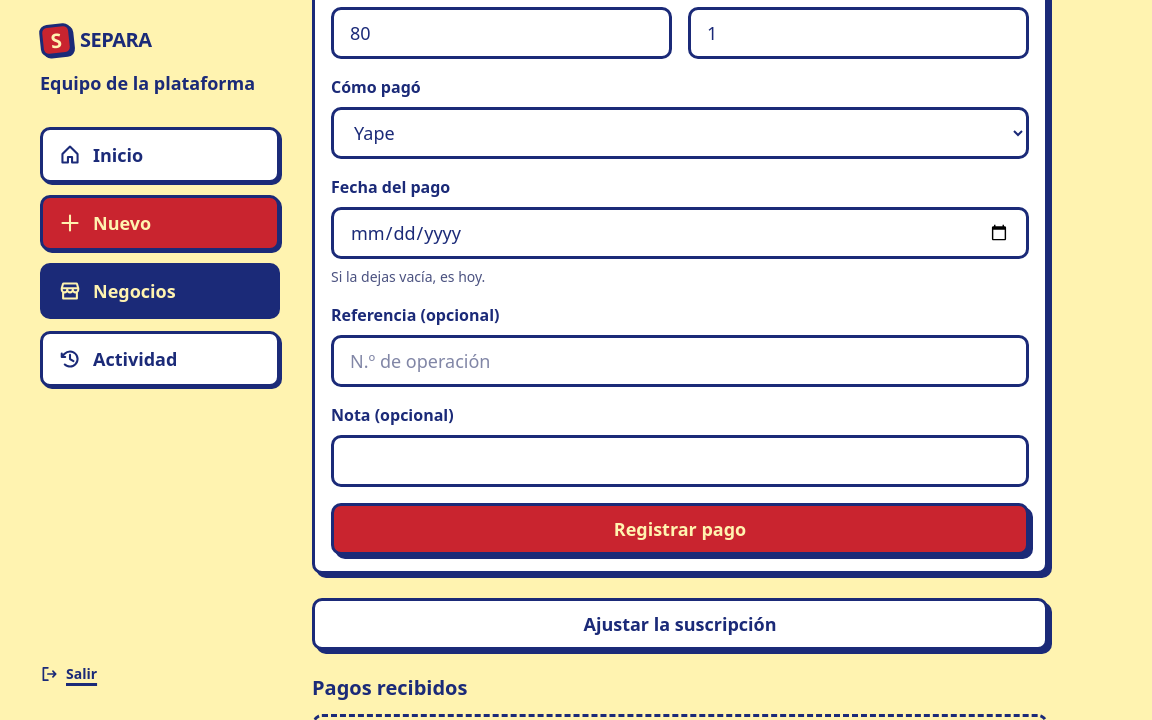
Test: recording a payment › starts over for the next payment, with the price proposed again
The width and height of the screenshot is (1152, 720).
(page scrolled)
In the field labelled "Referencia (opcional)": (680, 361) [331,335,1029,387], type "Op. 1"
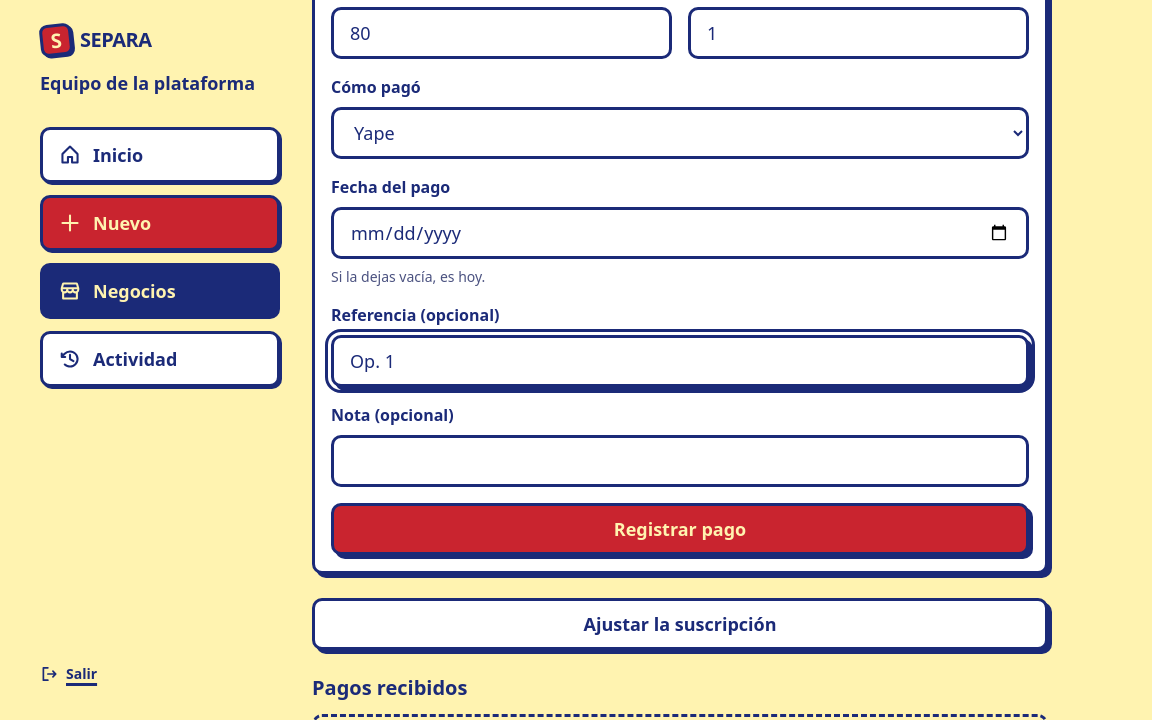
Click the button "Registrar pago": (680, 529) [331,503,1029,555]
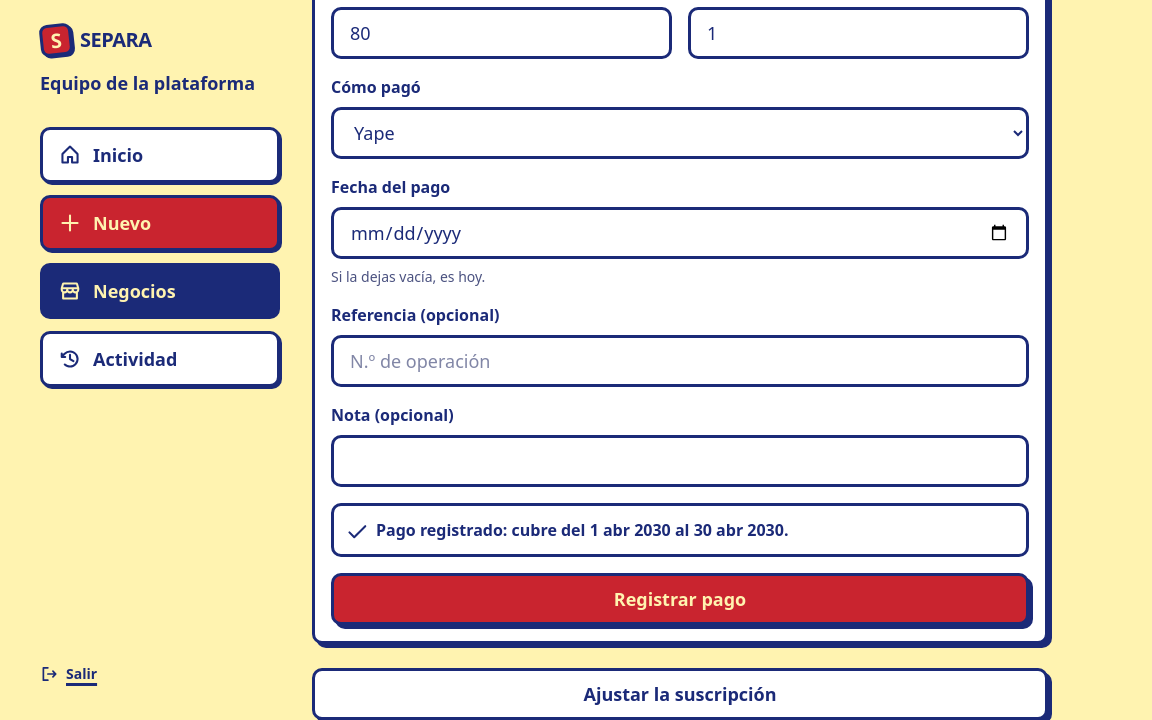
Check: the field labelled "Monto (S/)" holds "80", box [331,7,672,59]
Check: the message "Pago registrado: cubre del 1 abr 2030 al 30 abr 2030." is shown, box [331,503,1029,557]
Check: the field labelled "Referencia (opcional)" is empty, box [331,335,1029,387]
